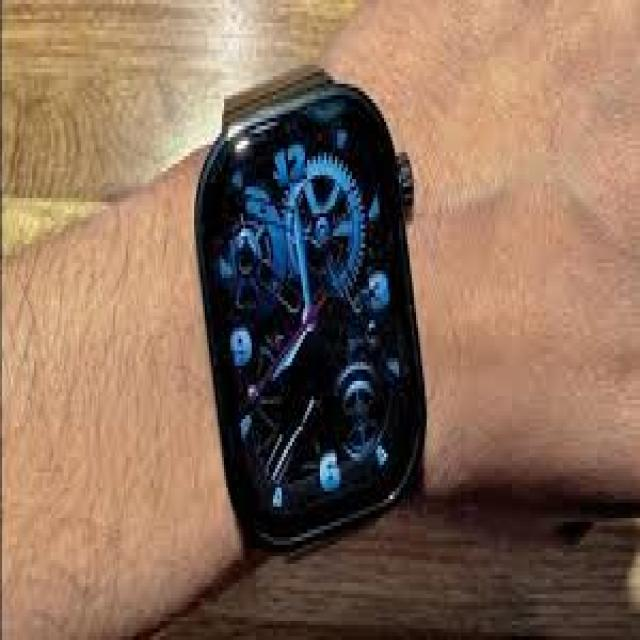objects: (196, 64, 425, 554)
